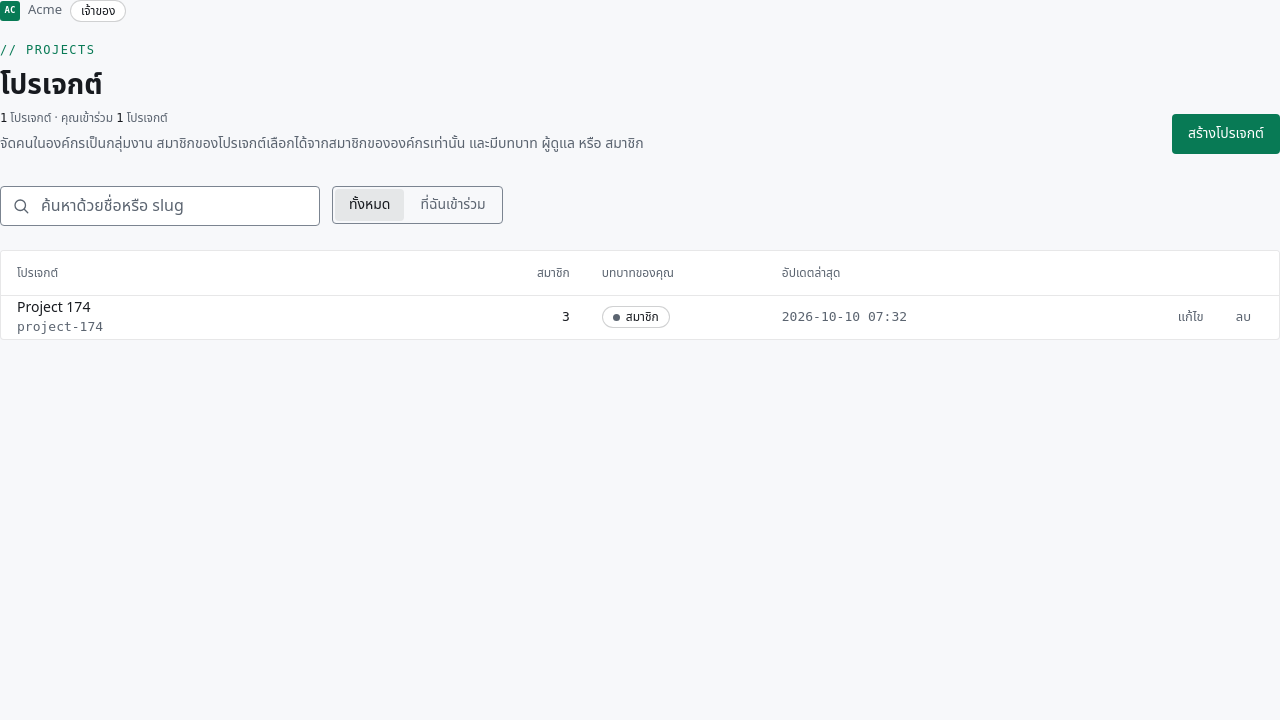
Test: create dialog › creates a project and reloads the list
Click the button with test id "projects-create" at coordinates (1226, 134), box 1172,114 -> 1279,154
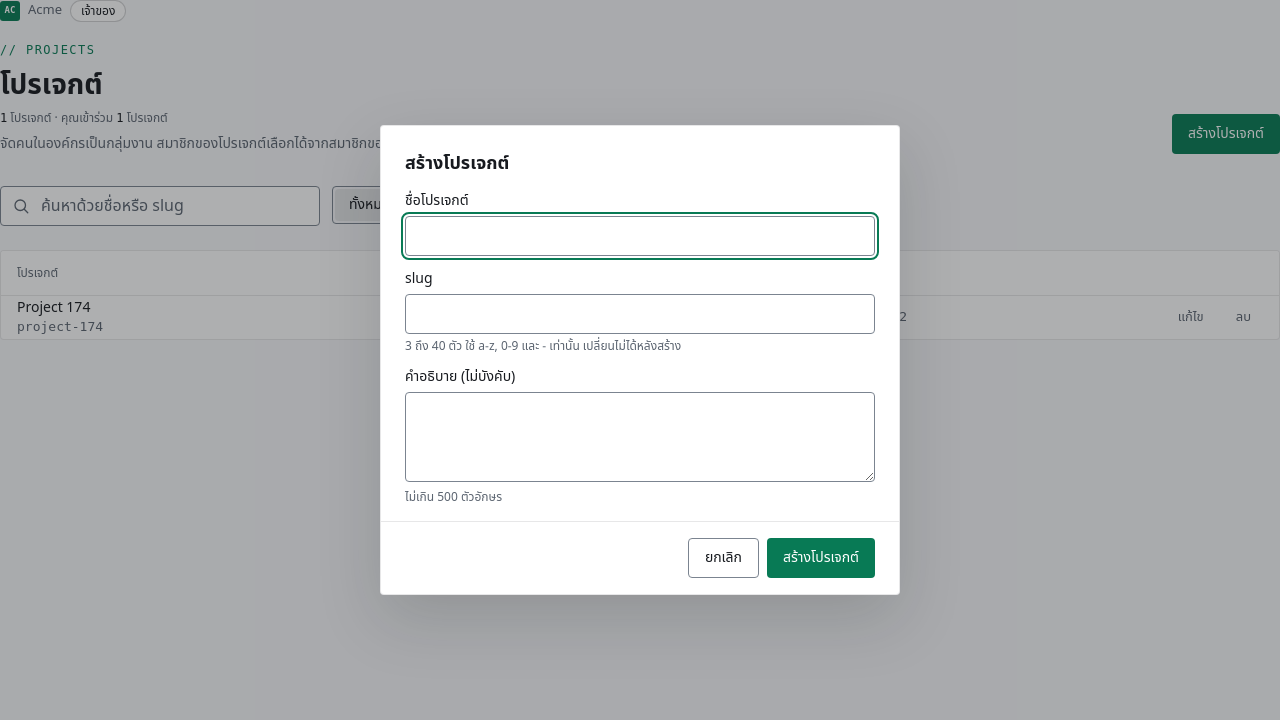
Type "  New one " into the field with test id "project-form-name" at coordinates (640, 236), box 405,216 -> 875,256
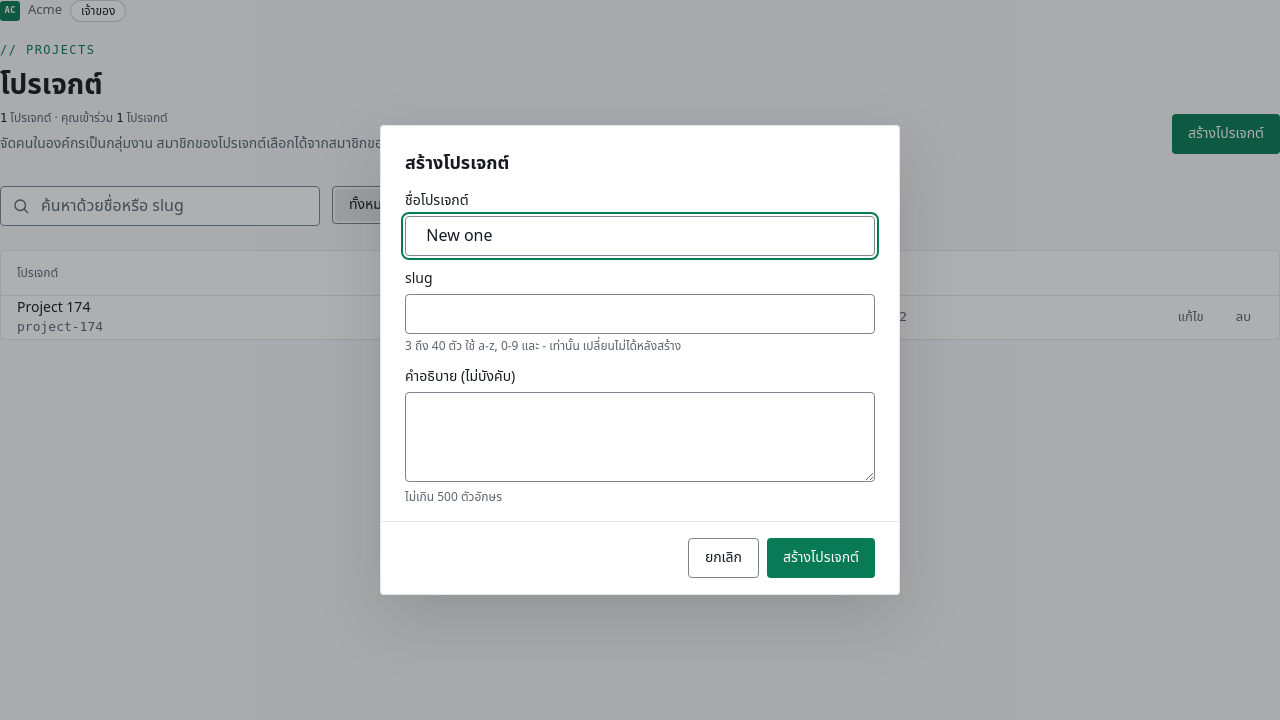
Type "new-one" into the field with test id "project-form-slug" at coordinates (640, 314), box 405,294 -> 875,334
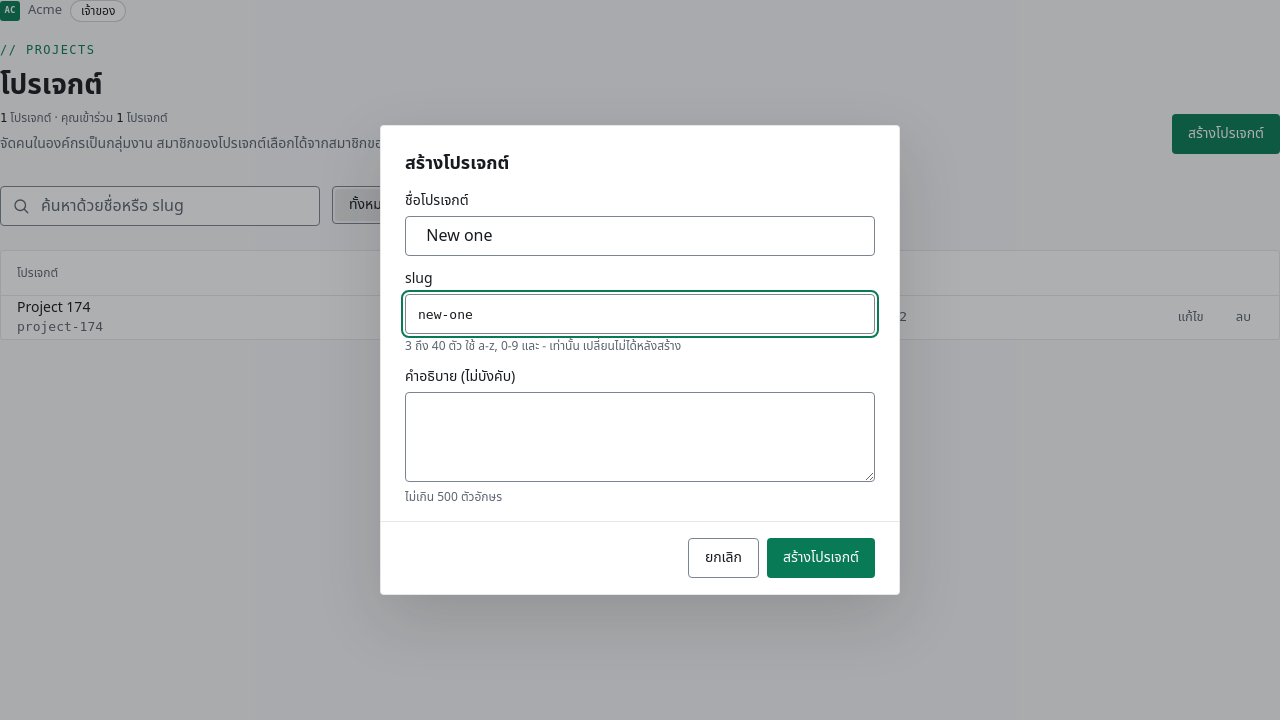
Click the button with test id "project-form-submit" at coordinates (821, 558), box 767,538 -> 875,578
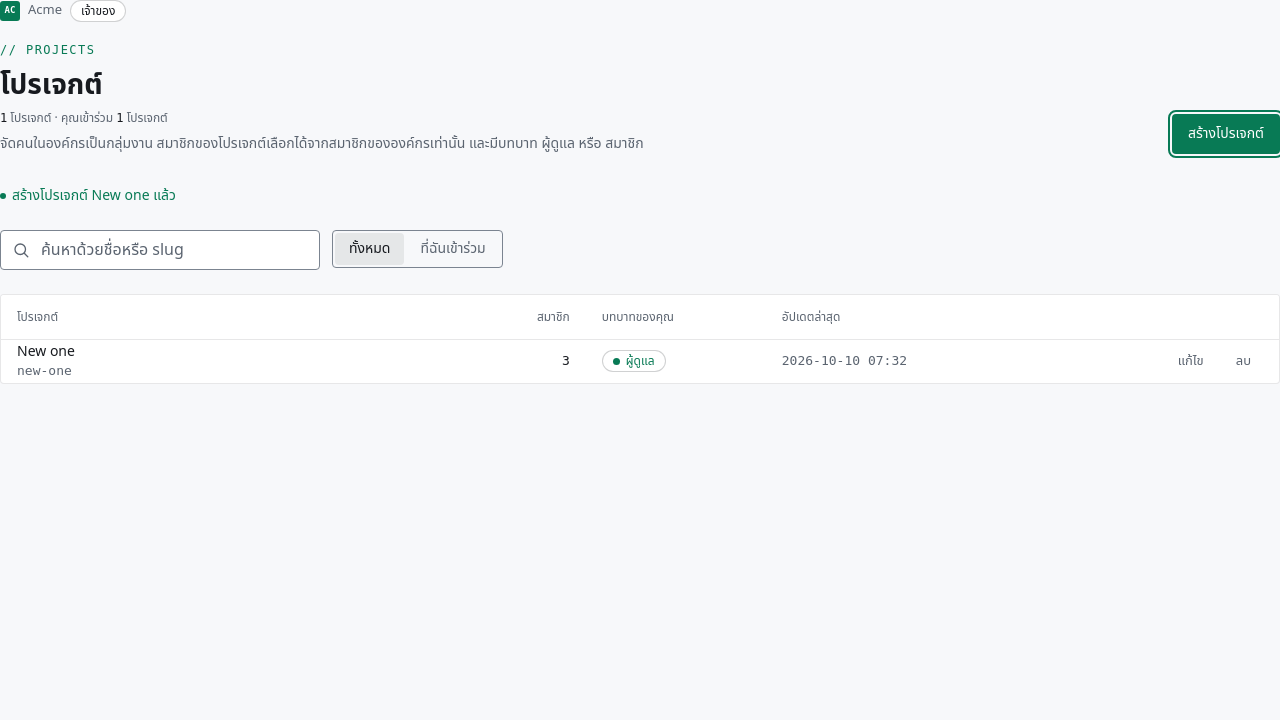
Check: the dialog with test id "project-create-dialog" is gone
Check: the message with test id "projects-notice-saved" shows "New one", box 12,185 -> 176,206
